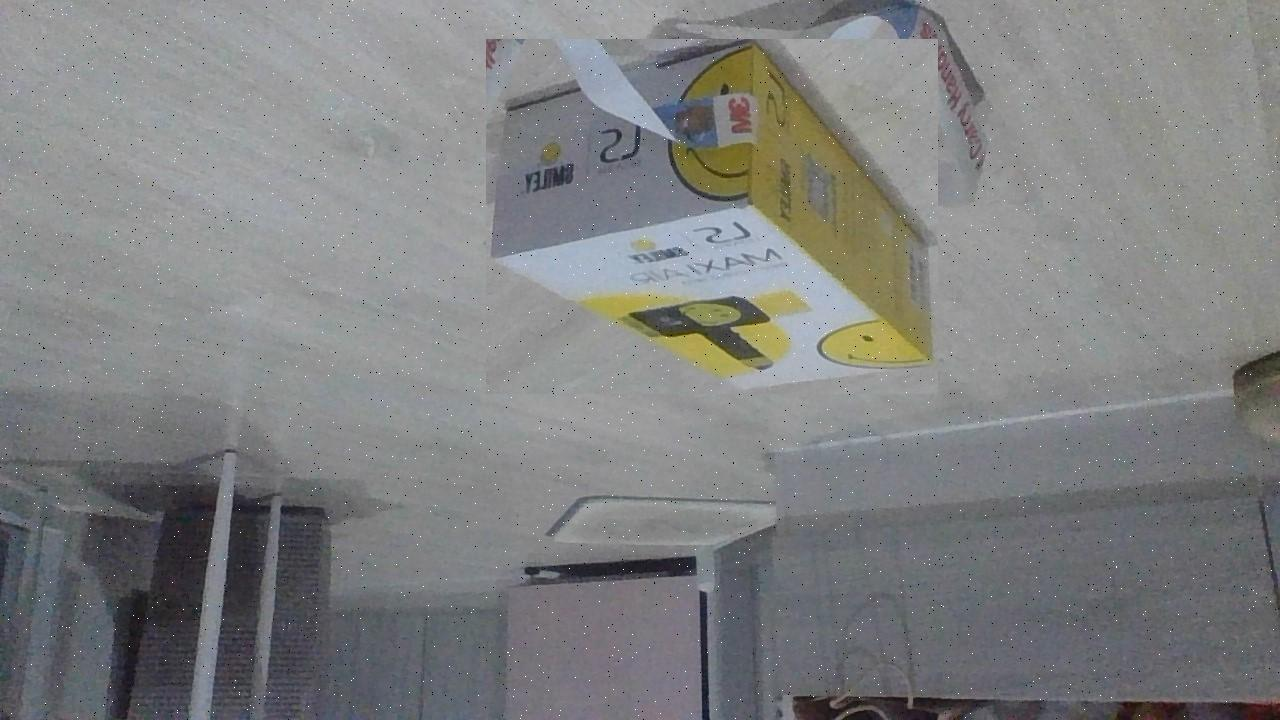Dryer: (486, 39, 938, 394)
